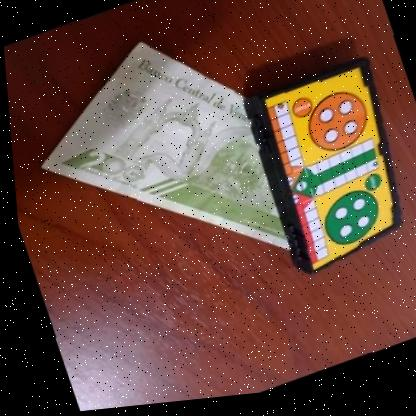fifty-back-vef: (6, 12, 296, 329)
